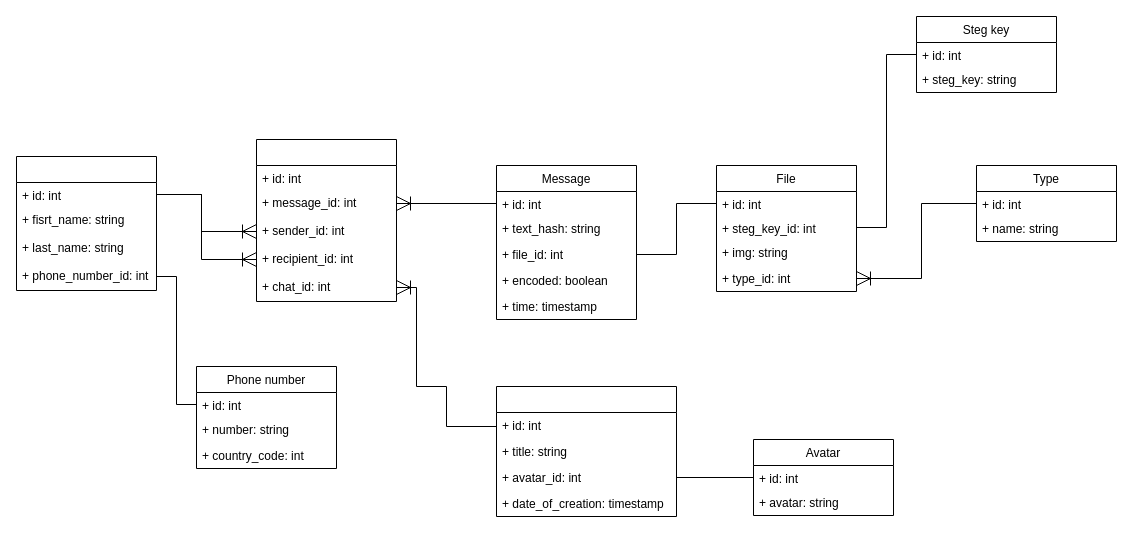
The diagram is 1133 pixels wide and 533 high, and some of its shapes have lost their labels. Each missing label, with the box of its shape:
Chat: (496, 386, 676, 516)
Conversation: (256, 138, 396, 302)
Person: (16, 156, 156, 290)
